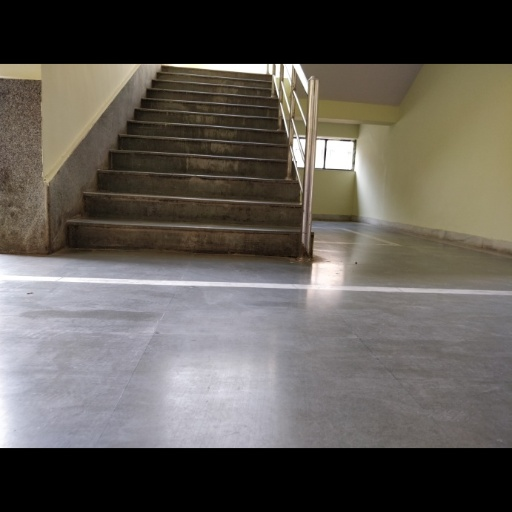Stairs: (68, 67, 302, 256)
